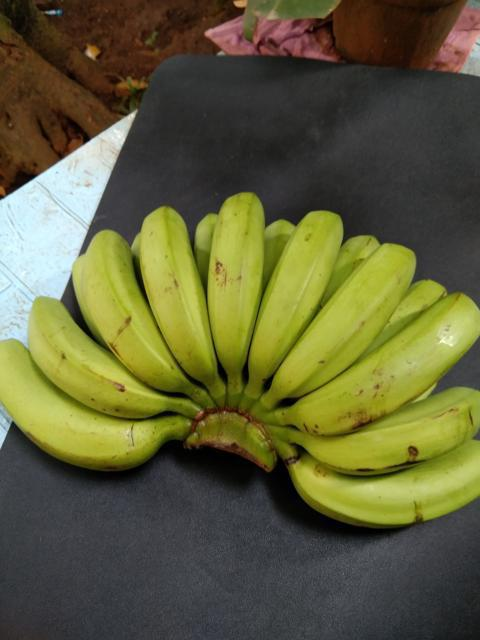freshunripe: (0, 333, 160, 471), (234, 197, 346, 383), (279, 434, 479, 536)
unripe: (292, 292, 471, 431), (79, 221, 179, 382), (139, 203, 216, 379), (211, 186, 271, 355)
